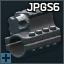JP Enterprises Gas System-6: (0, 0, 64, 64)
